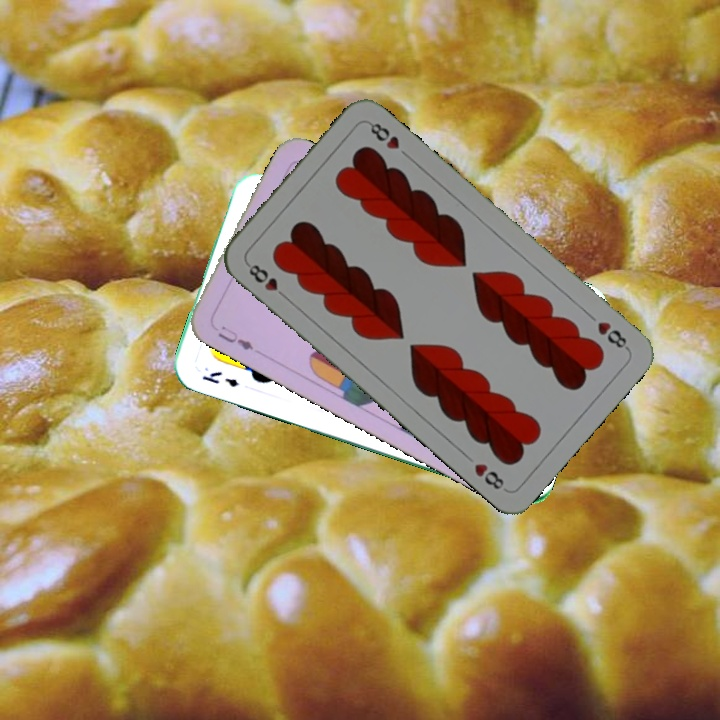EK: (198, 367, 241, 390)
EU: (213, 321, 257, 353)
H8: (242, 259, 291, 302), (593, 317, 632, 353)
